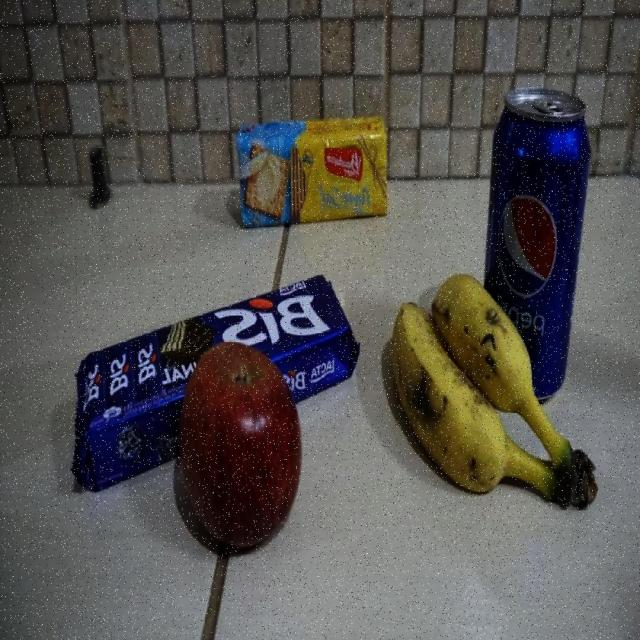Apple: (177, 343, 302, 550)
Banana: (391, 270, 599, 512)
Cracker: (236, 112, 388, 228)
SodaCan: (482, 87, 590, 401)
